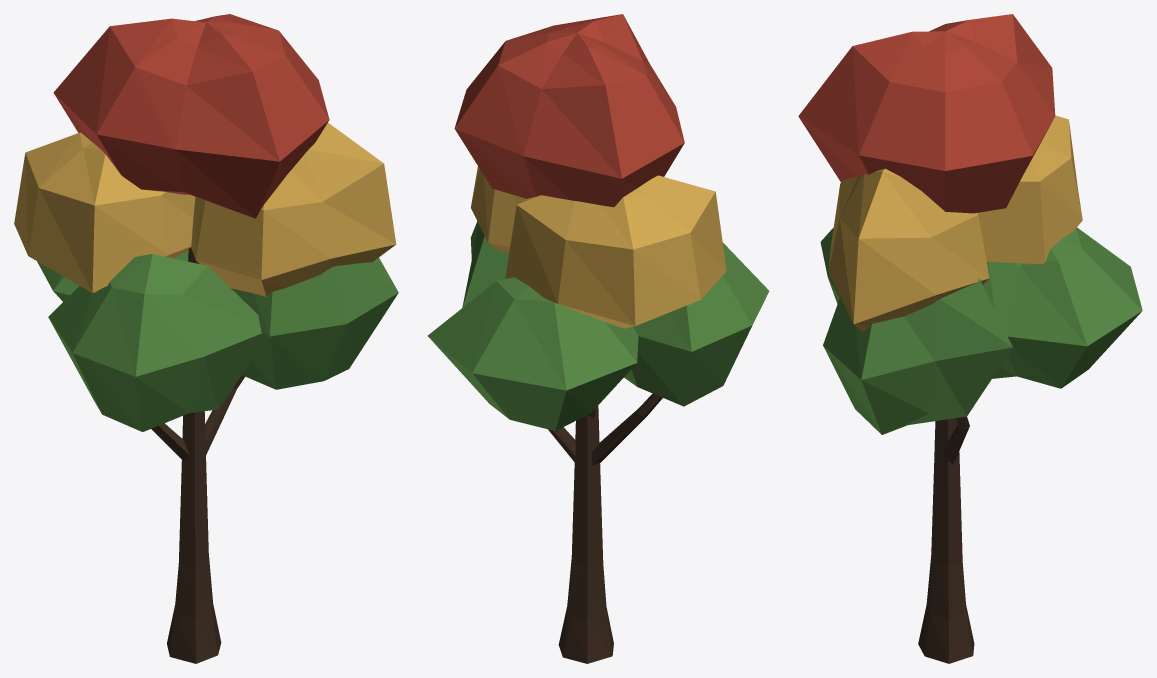
The model's file is maple-tree-65fa12.glb.
The picture shows the model from 3 angles, left to right: view 1: azimuth 30°, elevation 25°; view 2: azimuth 150°, elevation 25°; view 3: azimuth 270°, elevation 25°; orthographic projection.
Visible parts, largest first — view 1: maple-tree-mesh; view 2: maple-tree-mesh; view 3: maple-tree-mesh.
Part boxes in pixels (x1=…): maple-tree-mesh: x1=14, y1=14, x2=398, y2=663; maple-tree-mesh: x1=427, y1=14, x2=769, y2=663; maple-tree-mesh: x1=798, y1=14, x2=1142, y2=663.
Bounding box in the file's own units: 3.29 × 6.43 × 3.21.
